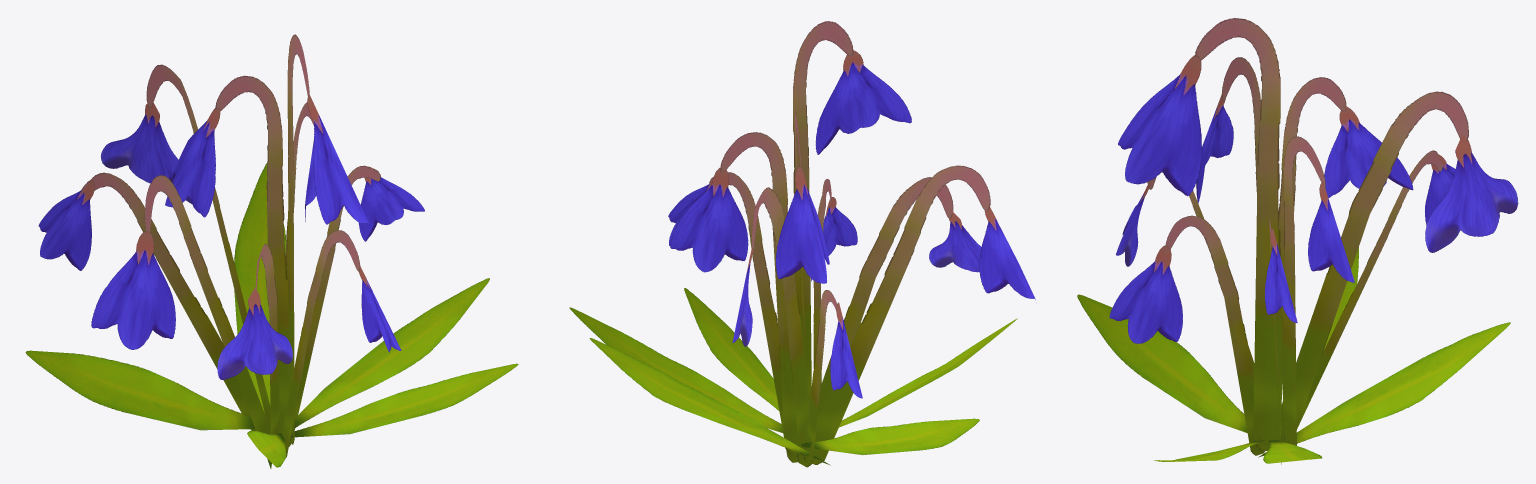
The model's file is flower2.fbx.
The picture shows the model from 3 angles, left to right: view 1: azimuth 30°, elevation 25°; view 2: azimuth 150°, elevation 25°; view 3: azimuth 270°, elevation 25°; orthographic projection. The views are drawn at different scales.
Parts seen in each view (by area): view 1: flower2; view 2: flower2; view 3: flower2.
Part boxes in pixels (bbox=[...]): flower2: bbox=[25, 34, 518, 468]; flower2: bbox=[569, 21, 1035, 467]; flower2: bbox=[1077, 18, 1518, 464].
Bounding box in the file's own units: 65.99 × 60.73 × 54.78.
1 material, 1 textured.
